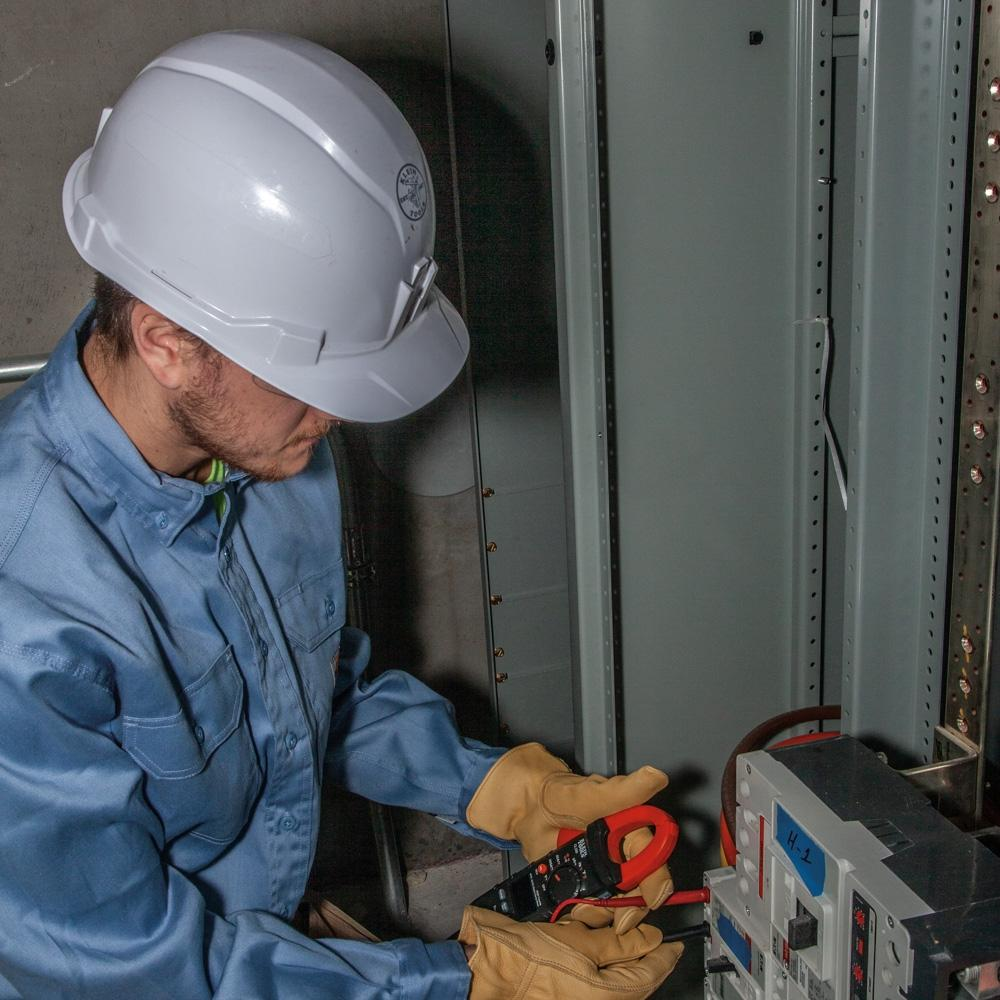helmet: (59, 23, 475, 431)
wear: (1, 466, 373, 1000)
